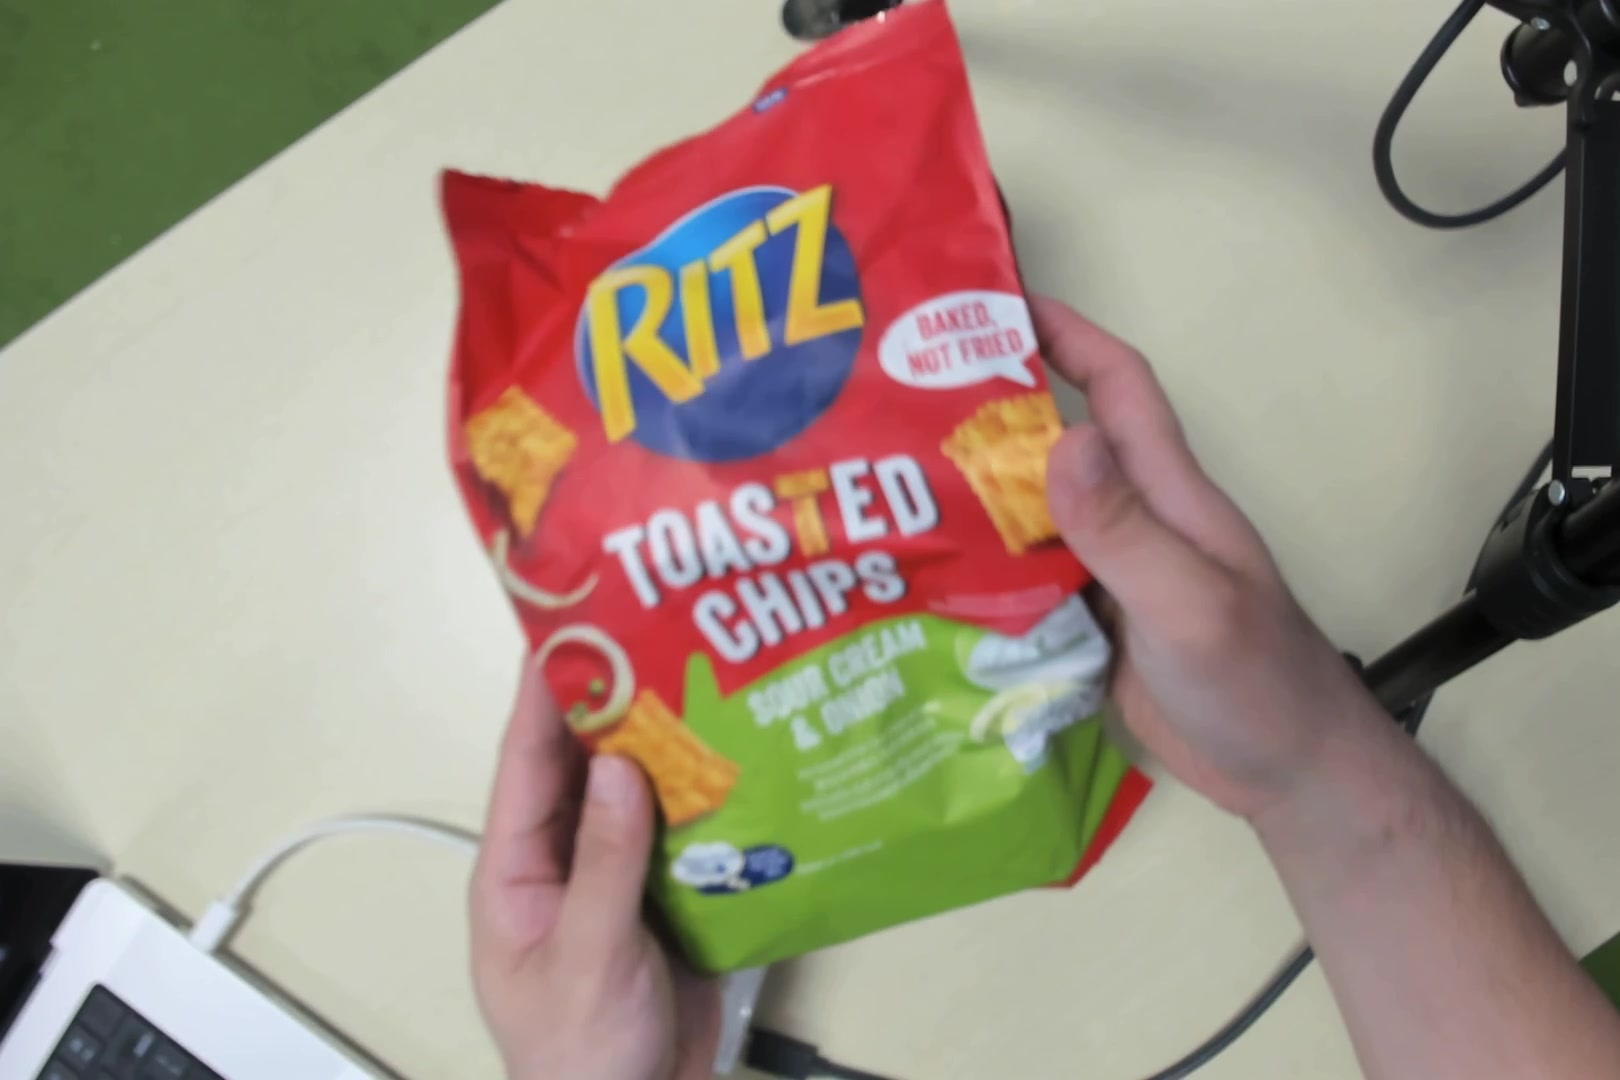BiscuitsCrackersCookies_200-299g_NonHalal_NonHealthy: (507, 162, 1090, 922)
